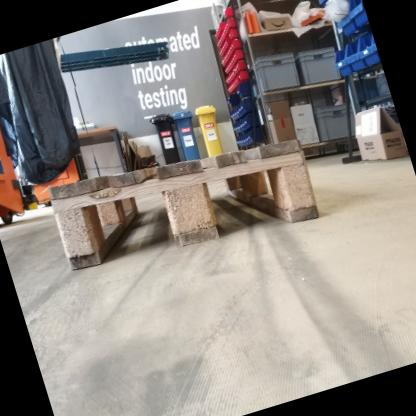BoxFace: (42, 127, 326, 277)
